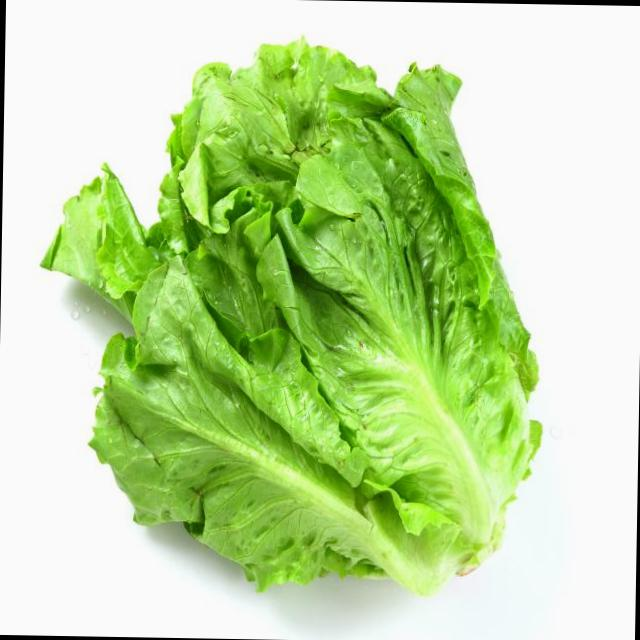Lettuce-Ready-to-Harvest: (42, 42, 539, 594)
